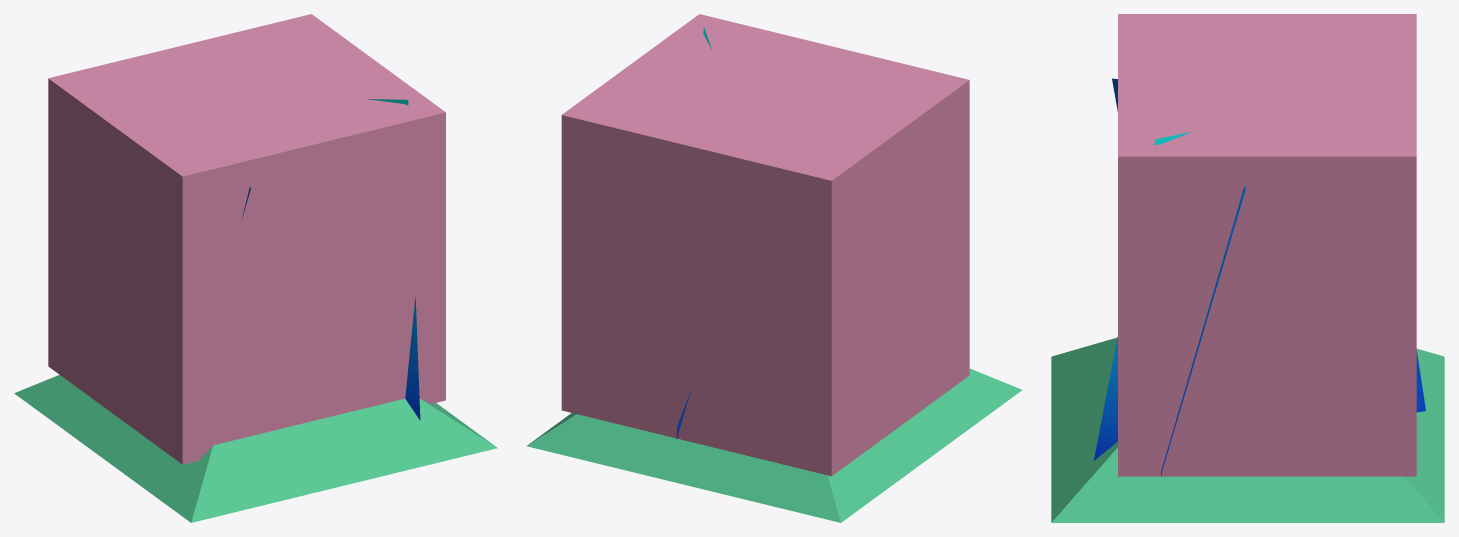
The model's file is tree_beech_bush_b.dae.
3 views of the same model, side by side, from view 1: azimuth 30°, elevation 25°; view 2: azimuth 150°, elevation 25°; view 3: azimuth 270°, elevation 25° (orthographic). The views are drawn at different scales.
Visible parts, largest first — view 1: Untitled, Colmesh-1, tree_oak_bush_a130; view 2: Untitled, Colmesh-1; view 3: Untitled, Colmesh-1, tree_oak_bush_a130.
Part boxes in pixels (bbox=[...]): Untitled: bbox=[48, 14, 445, 464]; Colmesh-1: bbox=[14, 375, 497, 522]; tree_oak_bush_a130: bbox=[241, 99, 420, 420]; Untitled: bbox=[561, 14, 969, 476]; Colmesh-1: bbox=[526, 368, 1021, 522]; Untitled: bbox=[1118, 14, 1416, 476]; Colmesh-1: bbox=[1051, 337, 1444, 522]; tree_oak_bush_a130: bbox=[1094, 78, 1425, 474].
Bounding box in the file's own units: 2.41 × 2.41 × 2.43.
